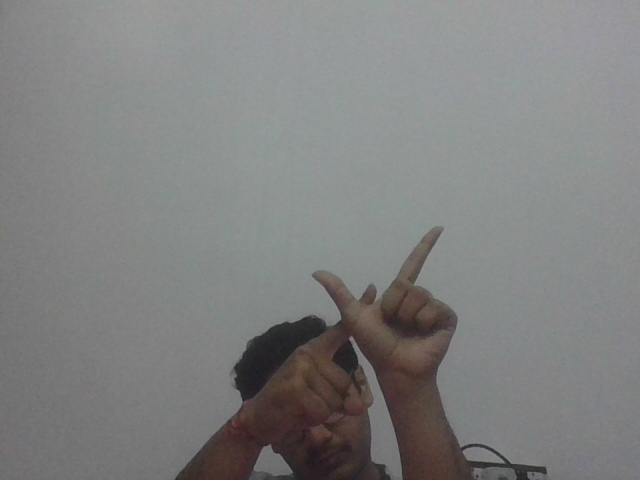Y: (284, 222, 466, 430)
